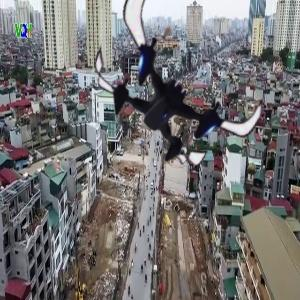drone: (86, 2, 269, 185)
